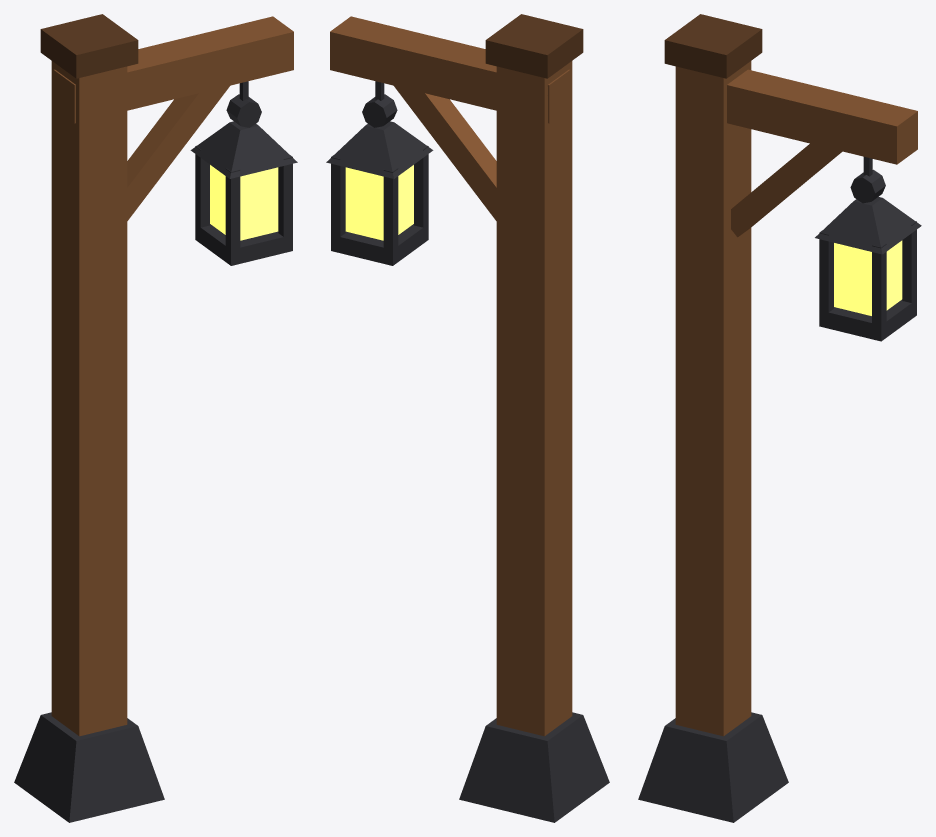
File: LanternPost.fbx
3 renders of one model, left to right at view 1: azimuth 30°, elevation 25°; view 2: azimuth 150°, elevation 25°; view 3: azimuth 330°, elevation 25°, orthographic.
Parts seen in each view (by area): view 1: LanternPost; view 2: LanternPost; view 3: LanternPost.
Boxes of the visible parts, box(x1,y1,x2,y2) form: LanternPost: box(14, 14, 297, 822); LanternPost: box(326, 14, 609, 822); LanternPost: box(638, 14, 921, 822).
Size of the model in its own units: 0.86 by 2.57 by 0.34.
